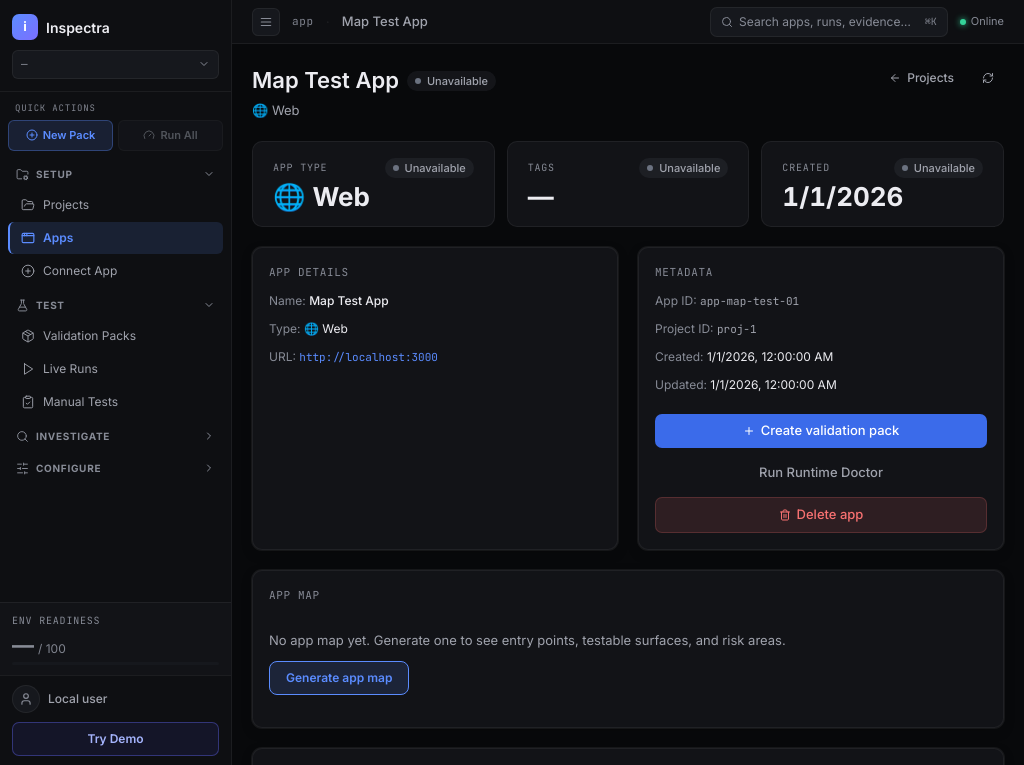
Scenario: AppDetailPage — App Map section › shows app map content after generate succeeds
Click the button with test id "generate-app-map-btn". click: click(339, 678)
box: [269, 660, 409, 694]
(page scrolled)
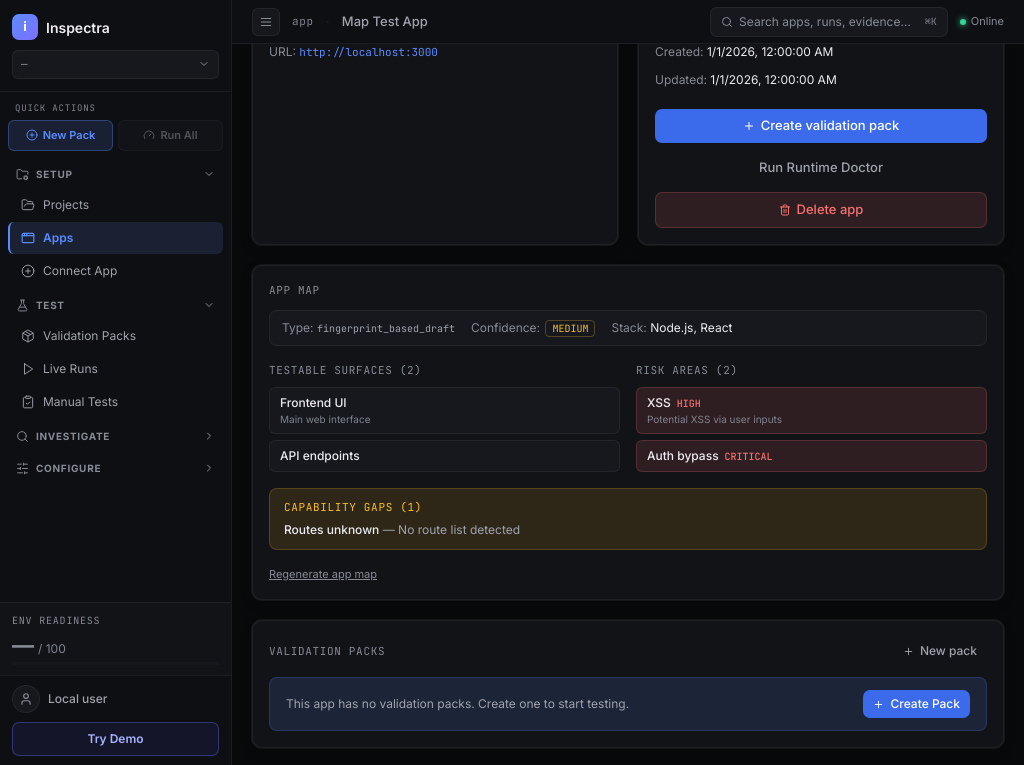
expect the element with test id "app-map-content" is shown: met, box [269, 310, 987, 583]
expect the element with test id "app-map-empty" is gone: met
